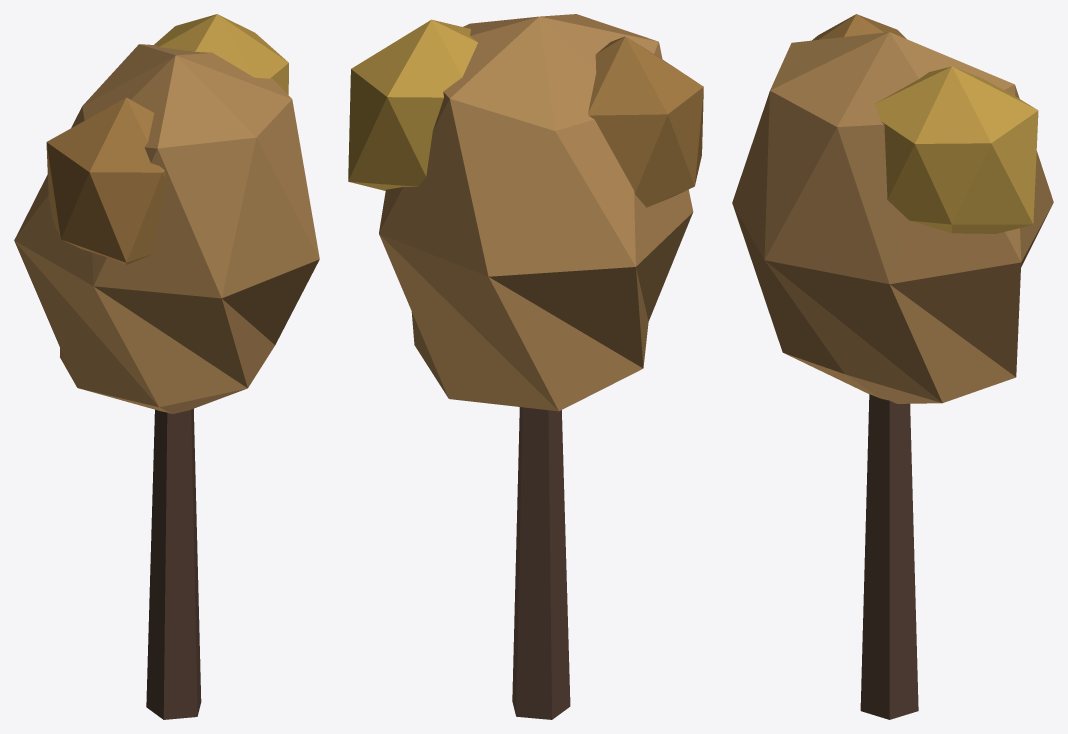
Rendered from tree_aspen_au.glb.
The picture shows the model from 3 angles, left to right: view 1: azimuth 30°, elevation 25°; view 2: azimuth 150°, elevation 25°; view 3: azimuth 270°, elevation 25°; orthographic projection. The views are drawn at different scales.
Visible parts, largest first — view 1: tree_aspen_au_Crown, tree_aspen_au; view 2: tree_aspen_au_Crown, tree_aspen_au; view 3: tree_aspen_au_Crown, tree_aspen_au.
Boxes of the visible parts, x1,y1,x2,y2 form: tree_aspen_au_Crown: (14,14,319,413); tree_aspen_au: (146,408,201,719); tree_aspen_au_Crown: (348,14,703,411); tree_aspen_au: (512,407,570,719); tree_aspen_au_Crown: (732,14,1053,403); tree_aspen_au: (860,394,918,719).
Size of the model in its own units: 1.34 by 3.18 by 1.37.
